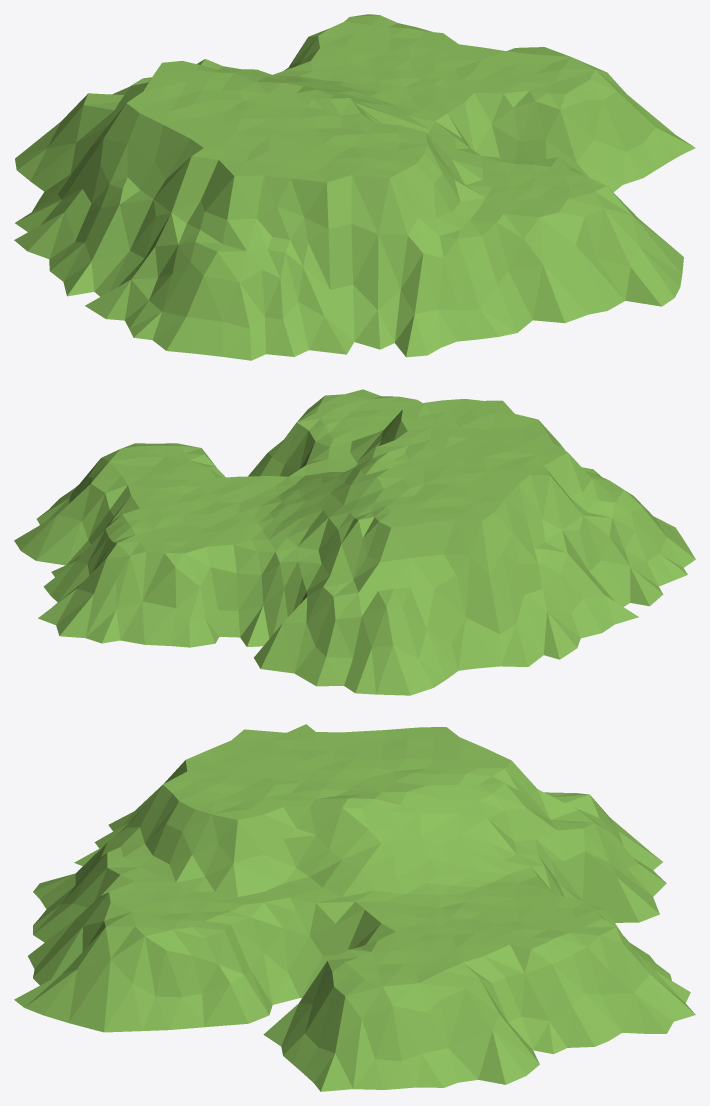
The model's file is MT_Island_L_b_13.fbx.
3 renders of one model, top to bottom at view 1: azimuth 30°, elevation 25°; view 2: azimuth 150°, elevation 25°; view 3: azimuth 270°, elevation 25°, orthographic. The views are drawn at different scales.
Visible parts, largest first — view 1: MT_Island_L_b_13; view 2: MT_Island_L_b_13; view 3: MT_Island_L_b_13.
Part boxes in pixels (x1=…): MT_Island_L_b_13: x1=14, y1=14, x2=695, y2=360; MT_Island_L_b_13: x1=14, y1=389, x2=695, y2=695; MT_Island_L_b_13: x1=14, y1=724, x2=695, y2=1091.
Bounding box in the file's own units: 8541 × 1636 × 8171.
